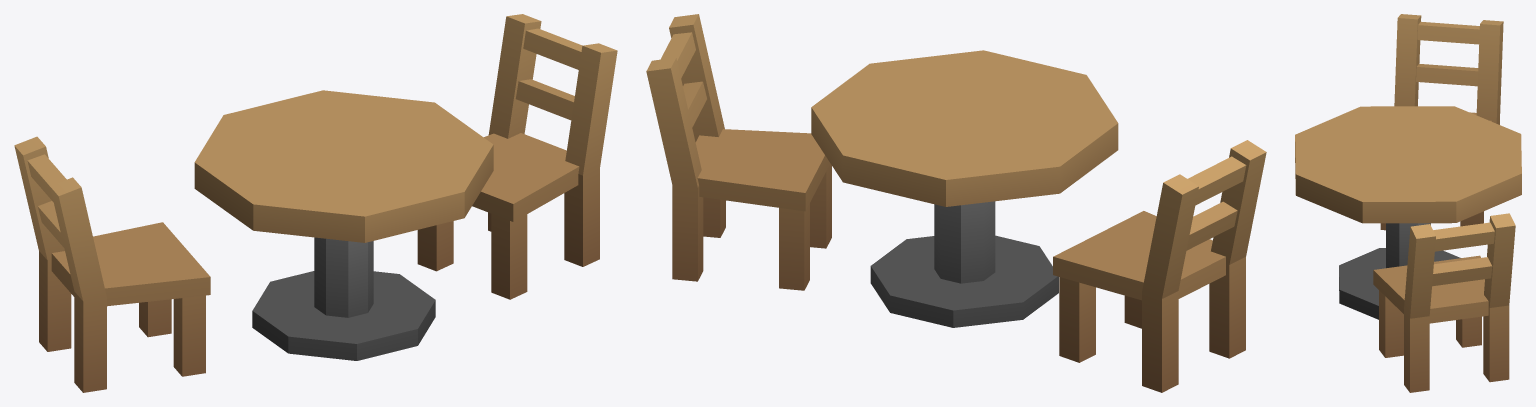
The model's file is table 3.fbx.
3 renders of one model, left to right at view 1: azimuth 30°, elevation 25°; view 2: azimuth 150°, elevation 25°; view 3: azimuth 270°, elevation 25°, orthographic. The views are drawn at different scales.
Visible parts, largest first — view 1: table_3; view 2: table_3; view 3: table_3.
Boxes of the visible parts, bbox=[...] form: table_3: bbox=[14, 14, 617, 392]; table_3: bbox=[646, 14, 1266, 392]; table_3: bbox=[1295, 14, 1521, 392].
Bounding box in the file's own units: 263 × 91 × 112.
Materials: 1 (1 with a texture image).
